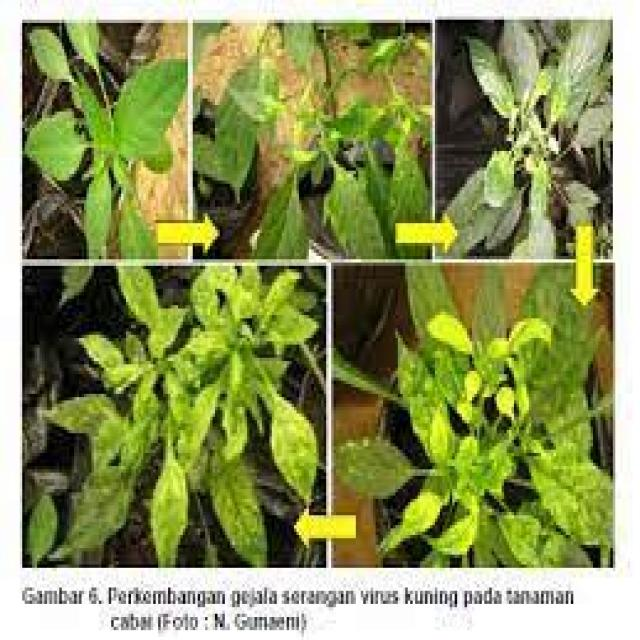yellowish leaf: (449, 363, 534, 437), (487, 308, 555, 370), (426, 304, 473, 366), (424, 403, 466, 472)
